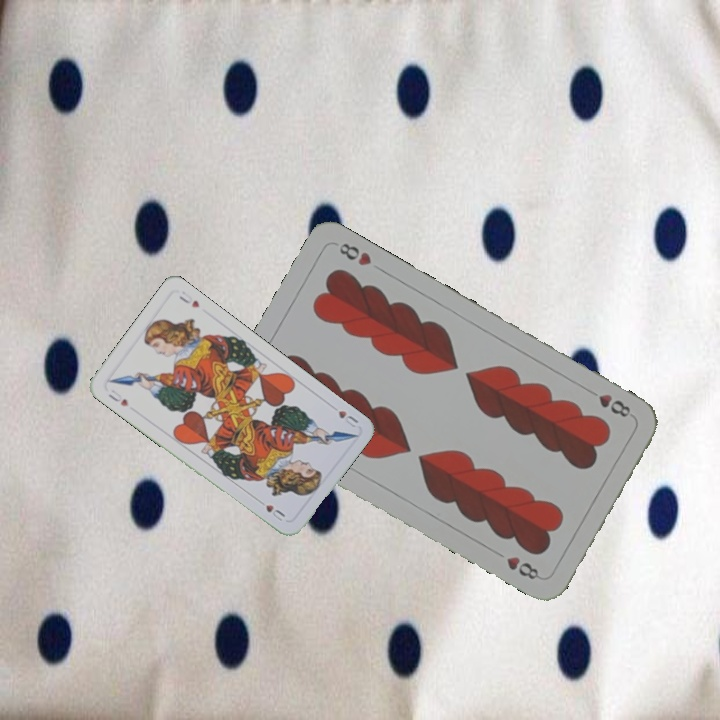H8: (583, 384, 633, 420)
HU: (104, 385, 131, 409), (334, 406, 361, 430)
